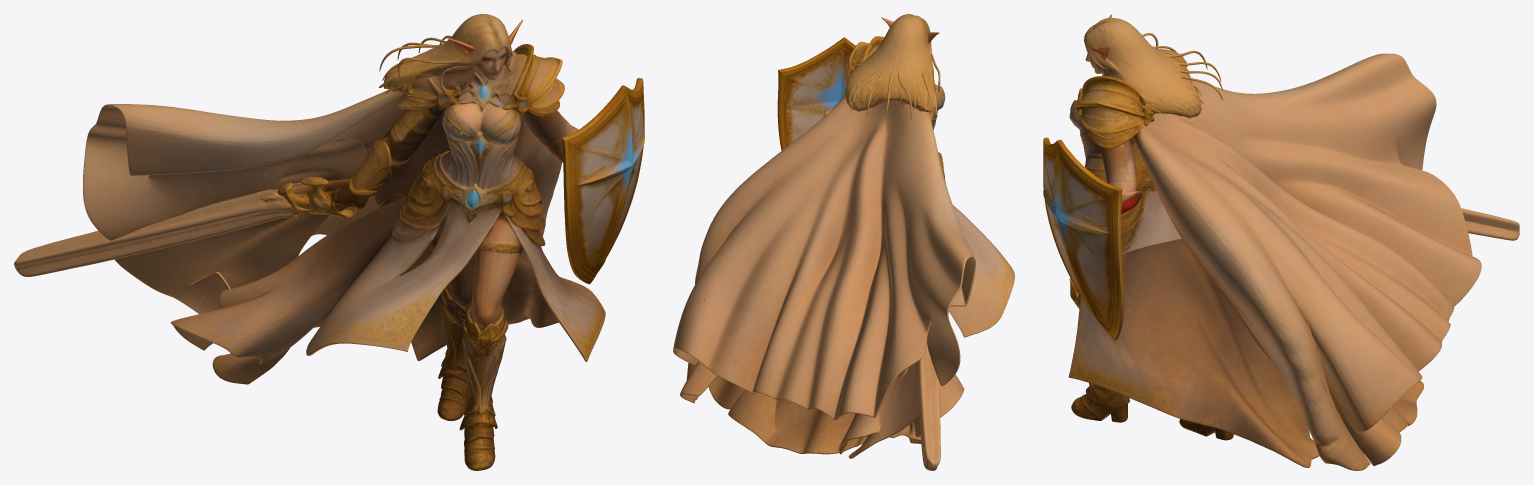
File: elf_paladin_full_female_01.glb
3 renders of one model, left to right at view 1: azimuth 30°, elevation 25°; view 2: azimuth 150°, elevation 25°; view 3: azimuth 270°, elevation 25°, orthographic. The views are drawn at different scales.
Parts seen in each view (by area): view 1: material; view 2: material; view 3: material.
Part boxes in pixels (x1,y1,x2,y2): material: (14, 14, 644, 470); material: (673, 14, 1014, 470); material: (1043, 14, 1519, 470).
Size of the model in its own units: 0.7676 by 0.7555 by 0.8137.
1 material, 1 textured.
